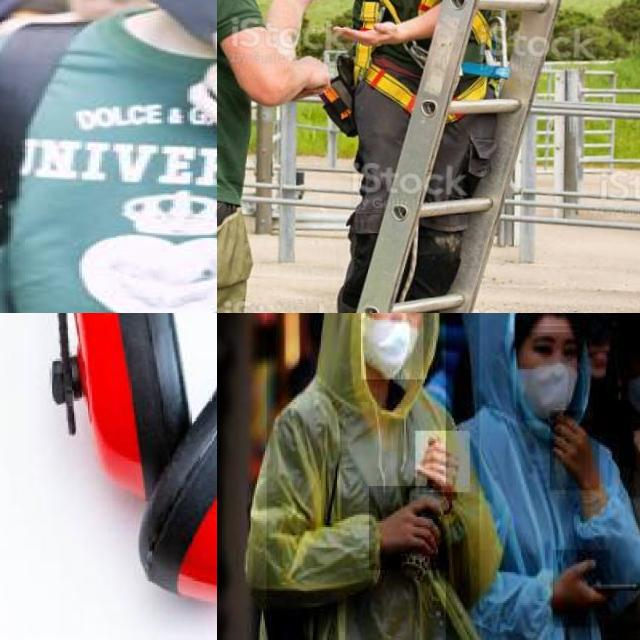Ear-protection: (29, 313, 217, 574)
Harness: (353, 0, 504, 132)
No_Glasses: (526, 329, 576, 368), (372, 313, 423, 323)
face_mask: (516, 326, 582, 421), (361, 313, 425, 381), (621, 336, 640, 430)
face_nomask: (67, 0, 150, 23)
hand_noglove: (369, 486, 447, 572), (174, 31, 217, 158), (553, 550, 612, 630), (550, 410, 599, 490), (415, 431, 470, 492), (628, 416, 640, 498)
head_nohelmet: (510, 313, 577, 334)
person: (266, 313, 479, 640), (446, 313, 640, 640)
